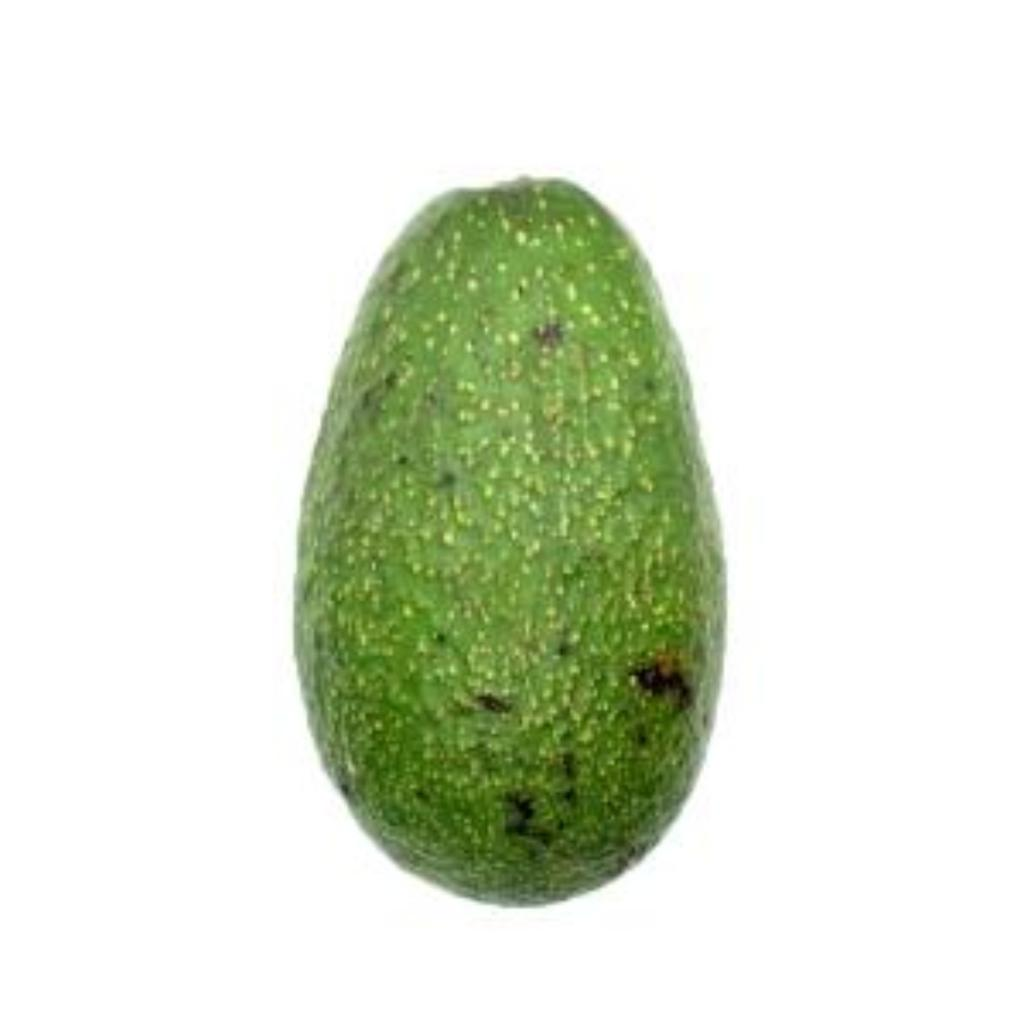cercospora: (282, 155, 753, 947)
